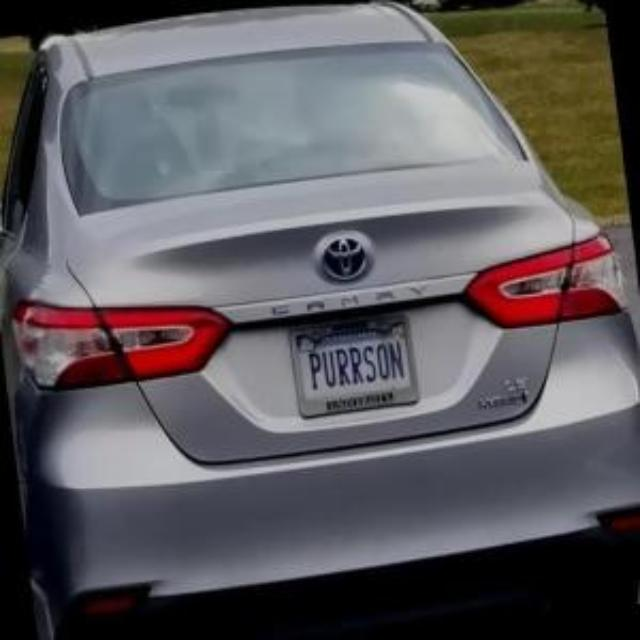License Plate: (287, 313, 421, 418)
